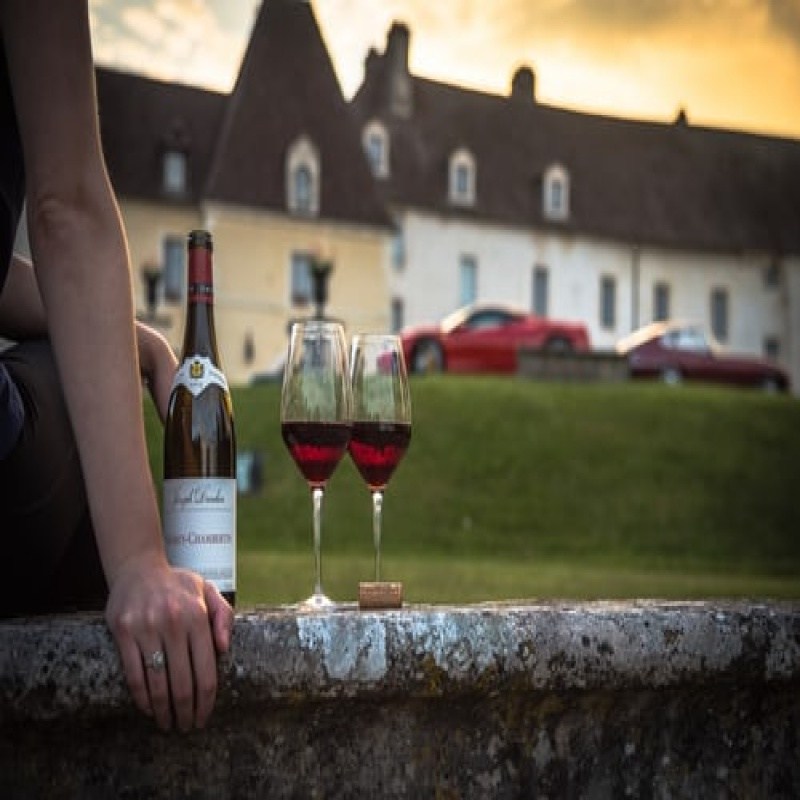wine: (164, 232, 237, 616)
